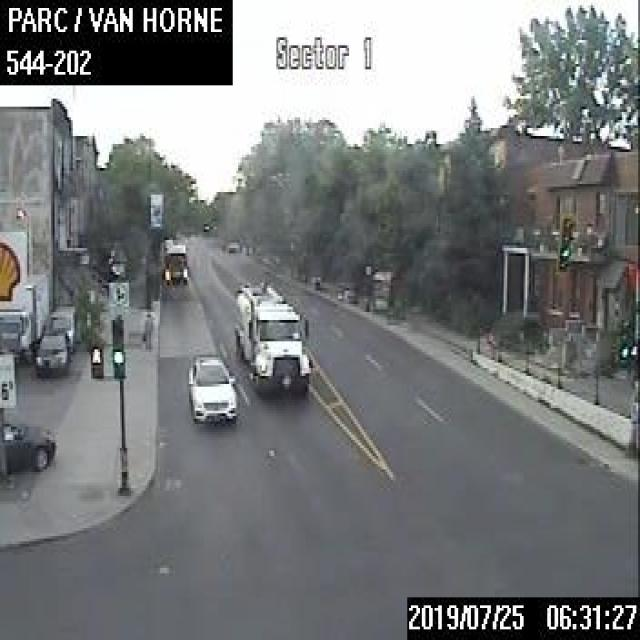bus: (162, 241, 188, 284)
vehicle: (231, 280, 311, 395), (0, 270, 47, 361), (186, 352, 236, 422), (2, 419, 54, 468), (44, 302, 80, 352), (34, 329, 70, 375)
